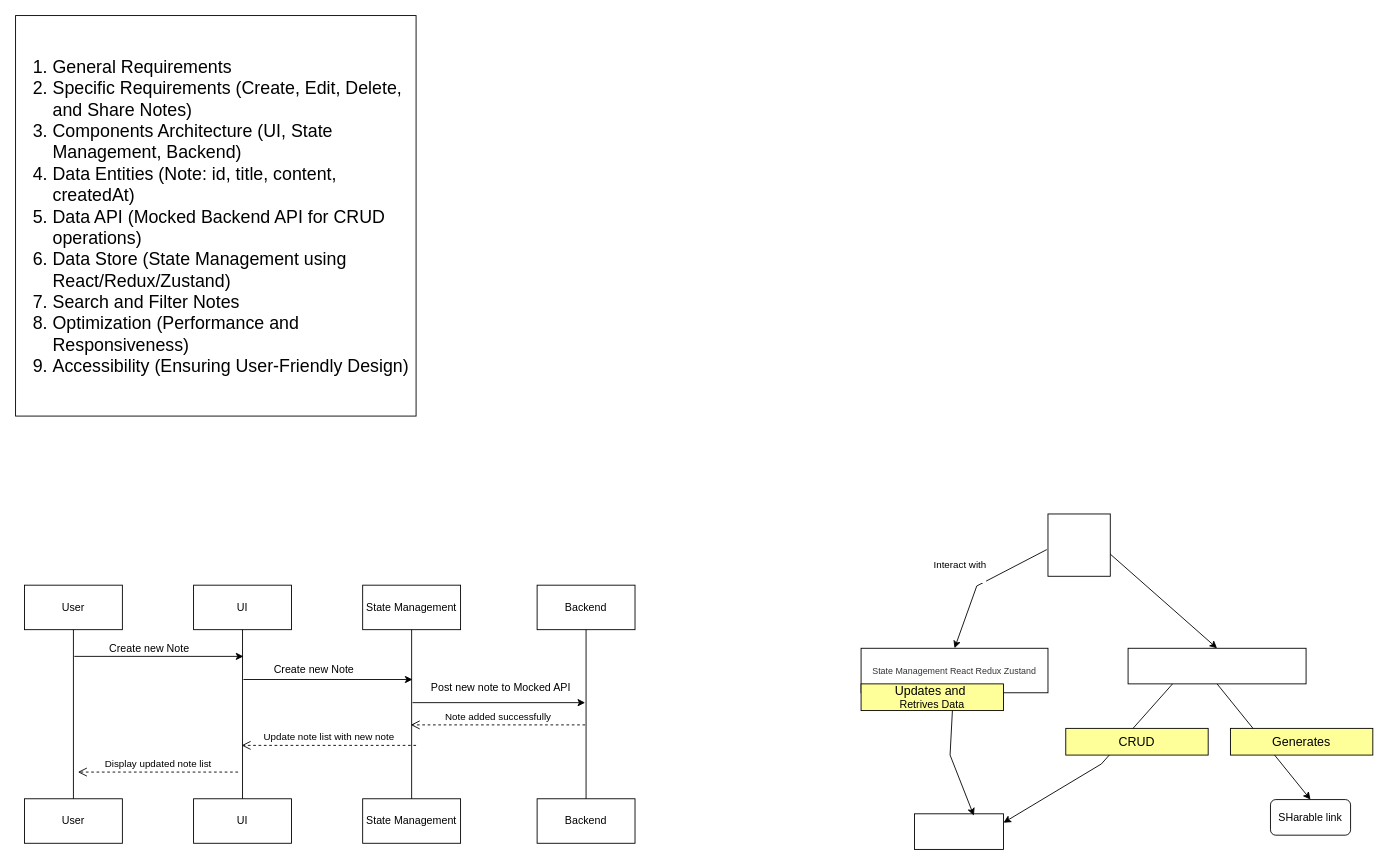
Some shapes in this 1388 by 865 pixel diagram are drawn without their labels. Each missing label, with the box of its shape:
Mocked Backend API: (1127, 647, 1306, 684)
Notes Data: (914, 813, 1003, 849)
User Interface: (1047, 513, 1110, 576)
